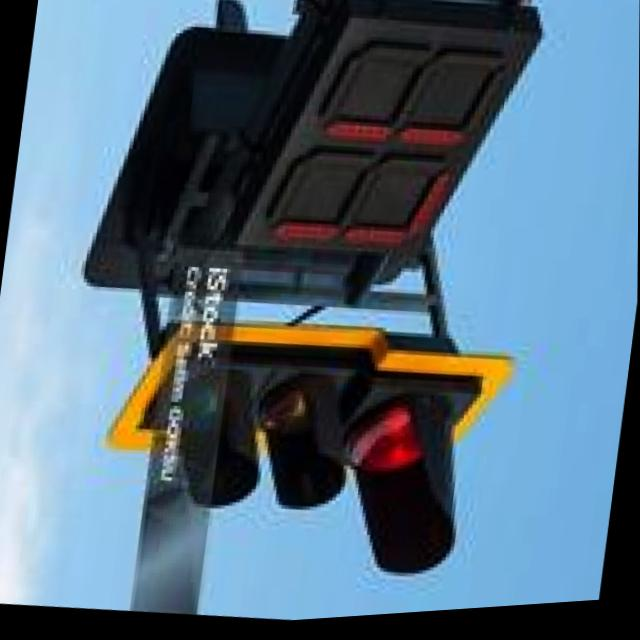red_light: (316, 372, 473, 614)
